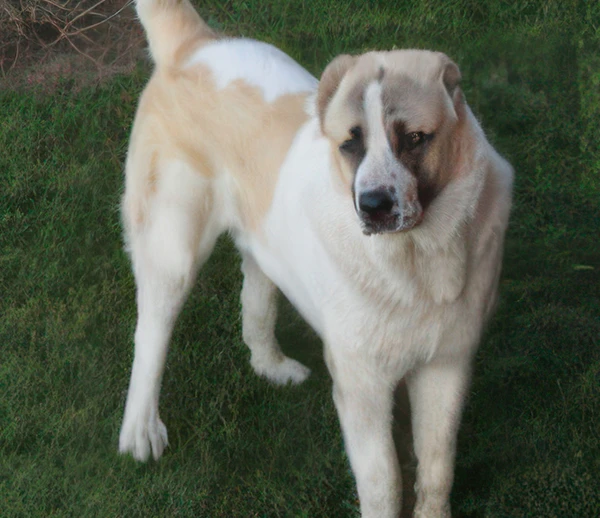dog: (83, 1, 506, 507)
